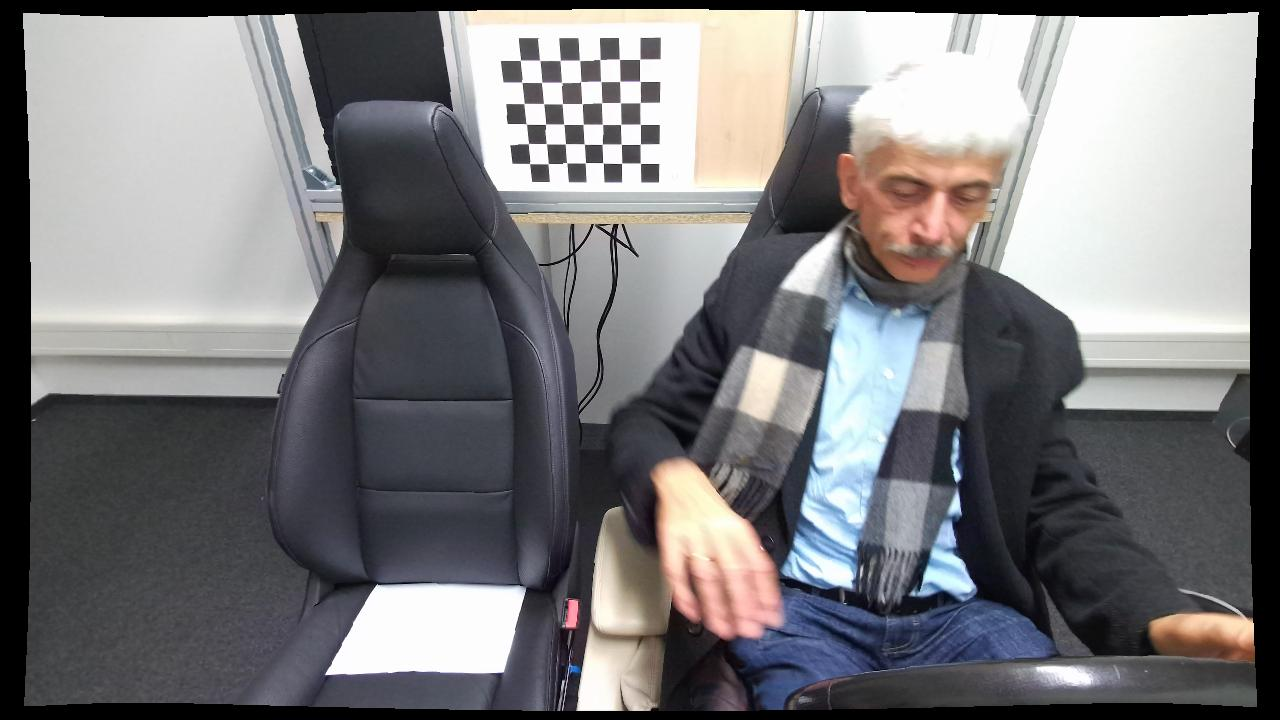Distracted: (673, 50, 1135, 720)
